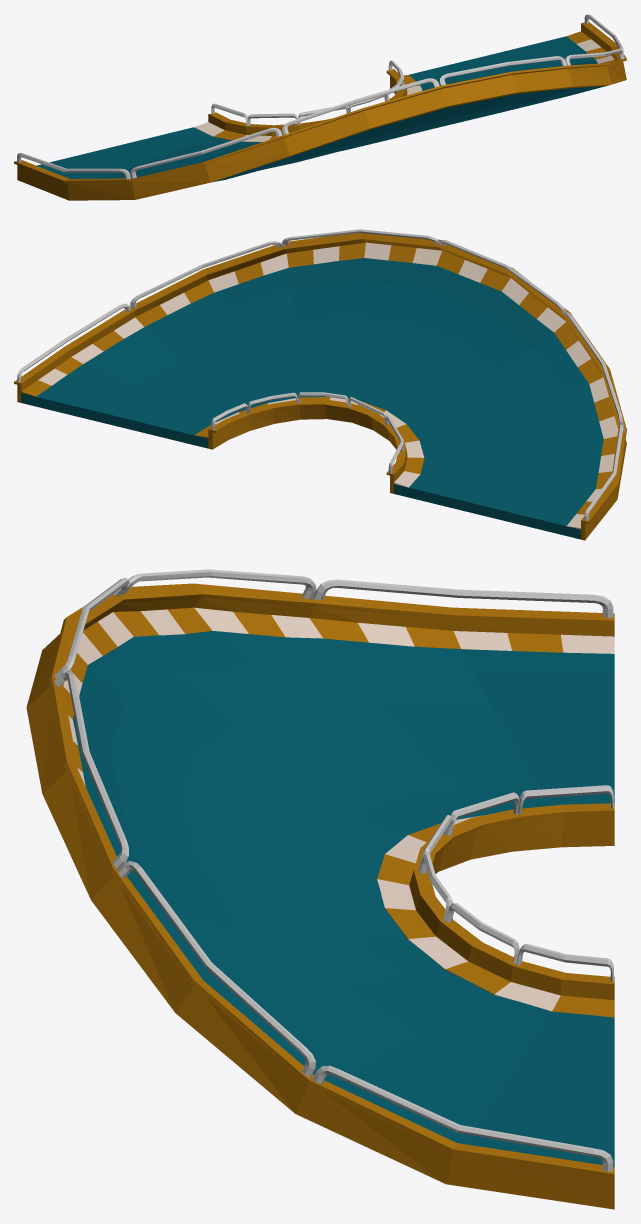
Rendered from curveLeft-180-Banked-30.FBX.
3 views of the same model, one above another, from view 1: azimuth 30°, elevation 25°; view 2: azimuth 150°, elevation 25°; view 3: azimuth 270°, elevation 25° (orthographic). The views are drawn at different scales.
Visible parts, largest first — view 1: wall_r, curveLeft-180-banked-30, wall_l, curbs_l, curbs_r; view 2: curveLeft-180-banked-30, wall_r, curbs_r, wall_l, curbs_l; view 3: curveLeft-180-banked-30, wall_r, wall_l, curbs_r, curbs_l.
Part boxes in pixels (bbox=[...]): wall_r: bbox=[14, 14, 626, 200]; curveLeft-180-banked-30: bbox=[37, 36, 605, 182]; wall_l: bbox=[208, 60, 407, 135]; curbs_l: bbox=[194, 75, 422, 141]; curbs_r: bbox=[566, 31, 614, 63]; curveLeft-180-banked-30: bbox=[21, 258, 603, 539]; wall_r: bbox=[14, 229, 626, 540]; curbs_r: bbox=[21, 242, 618, 529]; wall_l: bbox=[208, 392, 407, 493]; curbs_l: bbox=[194, 397, 424, 487]; curveLeft-180-banked-30: bbox=[73, 631, 614, 1166]; wall_r: bbox=[26, 569, 614, 1209]; wall_l: bbox=[409, 785, 614, 1000]; curbs_r: bbox=[63, 607, 614, 786]; curbs_l: bbox=[377, 815, 614, 1017].
Size of what is drawn, in the model's own units: 589 by 131 by 261.
